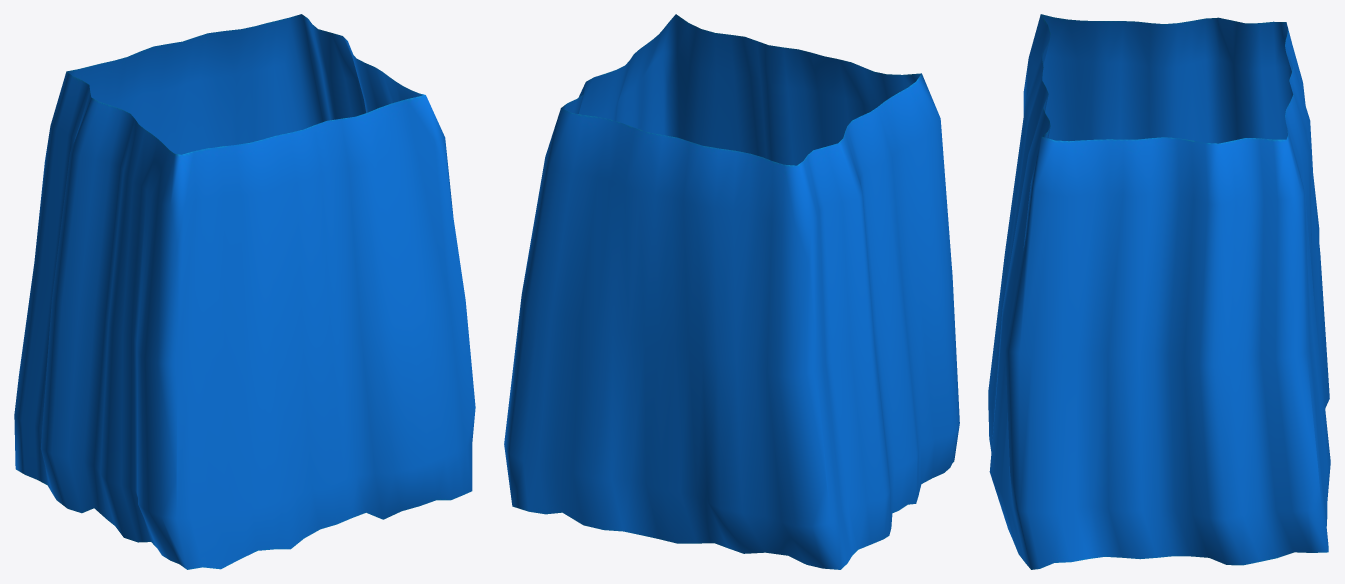
Rendered from oma_rock_export.fbx.
3 renders of one model, left to right at view 1: azimuth 30°, elevation 25°; view 2: azimuth 150°, elevation 25°; view 3: azimuth 270°, elevation 25°, orthographic. The views are drawn at different scales.
Parts seen in each view (by area): view 1: polySurface21; view 2: polySurface21; view 3: polySurface21.
Part boxes in pixels (box(x1,y1,x2,y2)): polySurface21: box(14, 14, 475, 569); polySurface21: box(504, 14, 959, 569); polySurface21: box(988, 14, 1330, 569).
Size of the model in its own units: 2.93 by 3.2 by 2.4.
